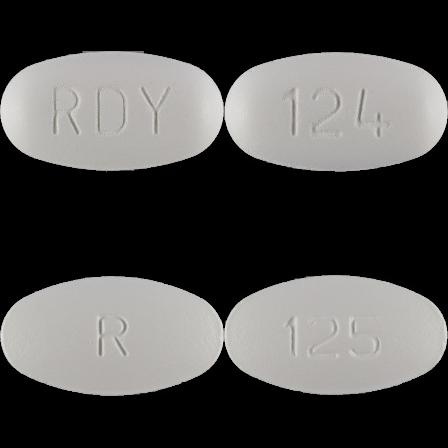55111-124: (0, 0, 224, 224)
